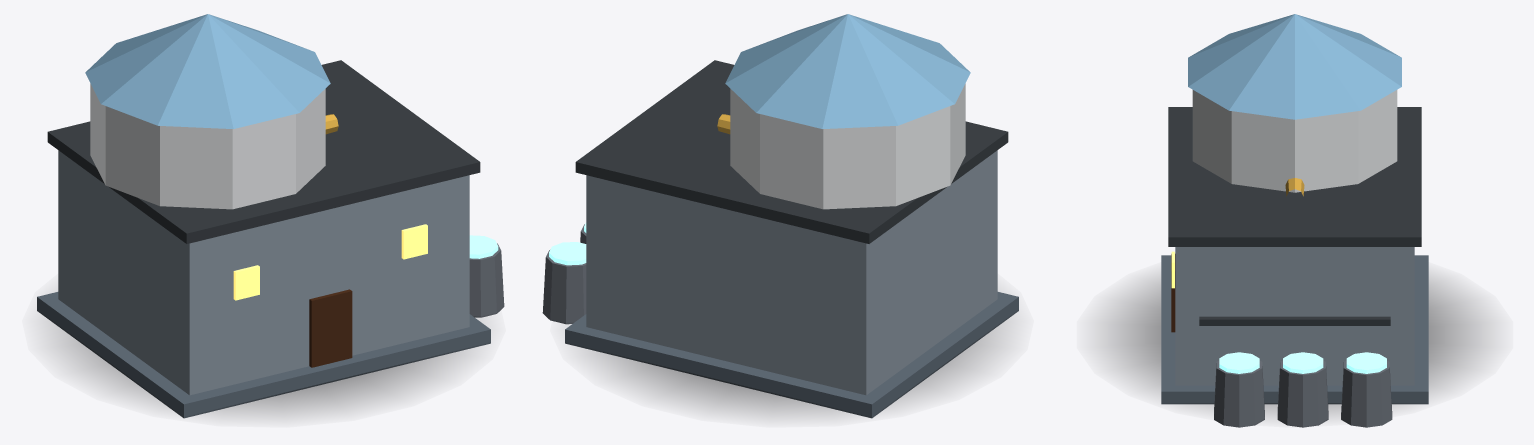
The model's file is lab_t2.glb.
3 views of the same model, side by side, from view 1: azimuth 30°, elevation 25°; view 2: azimuth 150°, elevation 25°; view 3: azimuth 270°, elevation 25° (orthographic). The views are drawn at different scales.
Parts seen in each view (by area): view 1: lab_t2; view 2: lab_t2; view 3: lab_t2.
Part boxes in pixels (x1,y1,x2,y2): lab_t2: [37, 14, 504, 418]; lab_t2: [542, 14, 1018, 418]; lab_t2: [1104, 14, 1485, 427].
Size of the model in its own units: 6.43 by 4.64 by 6.36.
